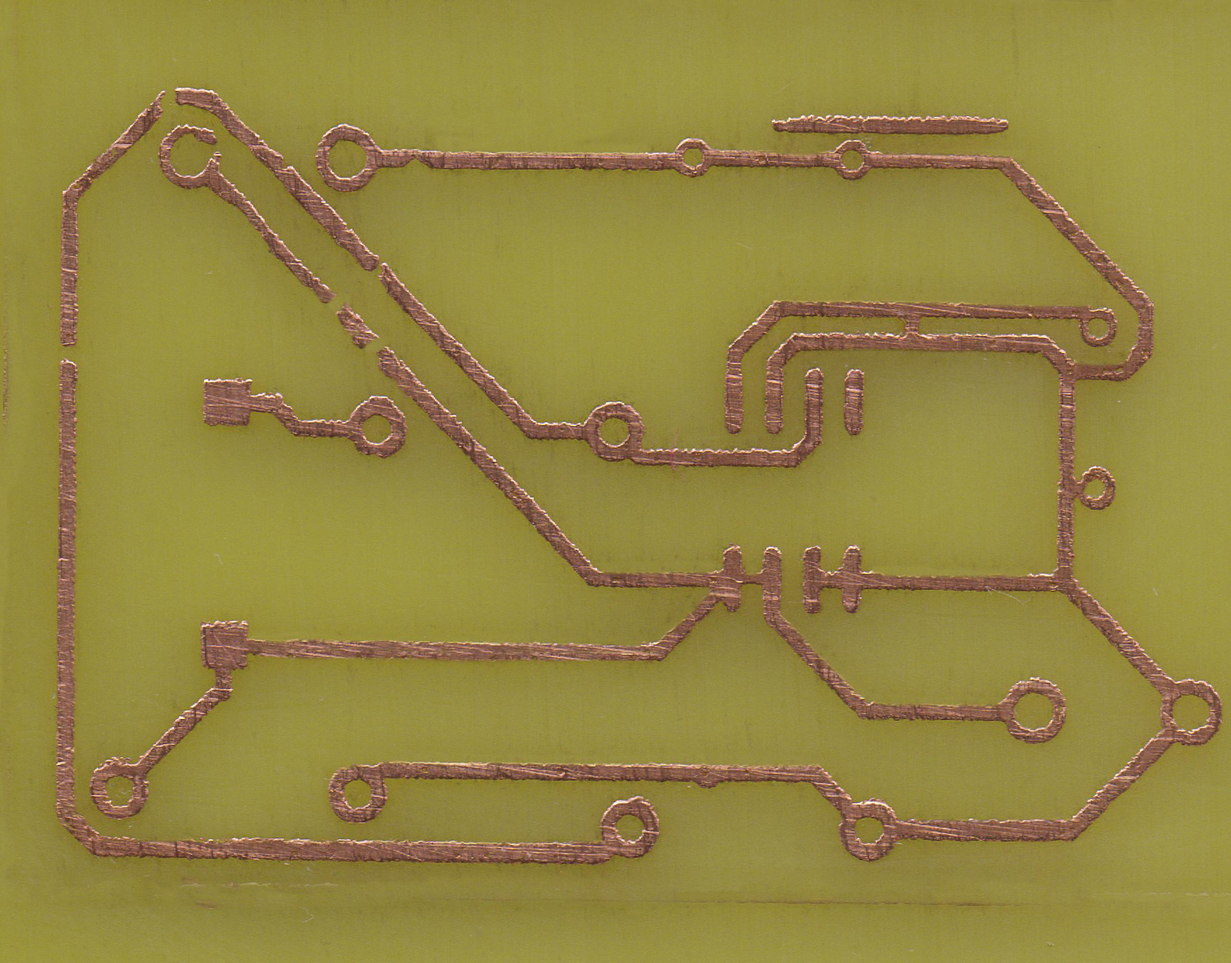mouse_bite: (399, 142, 437, 176)
open_circuit: (148, 80, 186, 118), (354, 328, 391, 365), (319, 290, 355, 324), (54, 334, 85, 372), (359, 252, 393, 280)
short: (900, 301, 924, 351)
spur: (695, 762, 723, 793)
spurious_copper: (771, 112, 1013, 138)
